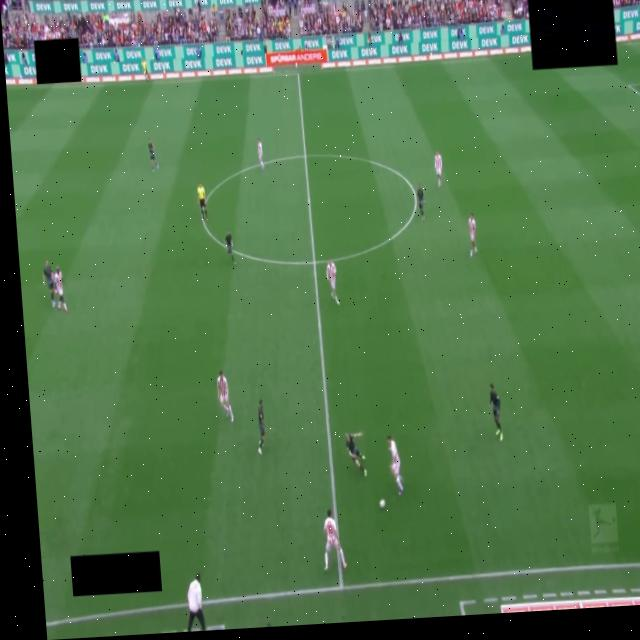ball: (379, 499, 387, 510)
player: (324, 510, 346, 570), (387, 435, 403, 495), (346, 433, 367, 476), (217, 371, 233, 421), (490, 384, 503, 440), (53, 267, 68, 314), (43, 260, 55, 307), (326, 262, 339, 304), (468, 213, 477, 256), (258, 400, 265, 455), (148, 139, 158, 172), (225, 231, 235, 264), (417, 184, 424, 221), (435, 152, 442, 187), (257, 138, 264, 168)
referee: (197, 182, 207, 221)
